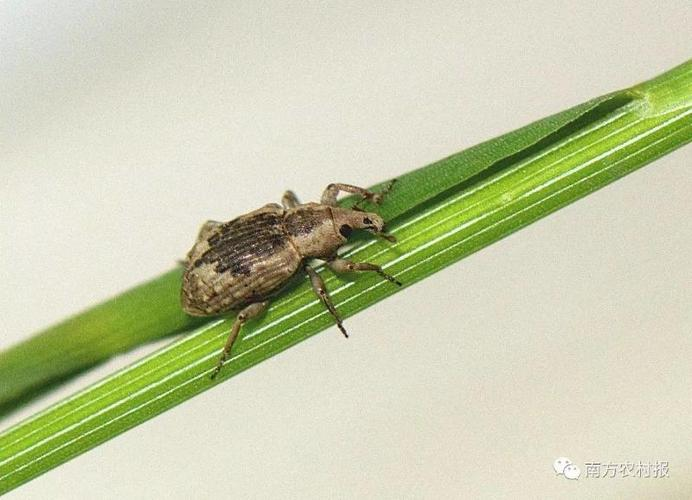Curculionidae: (176, 178, 405, 381)
